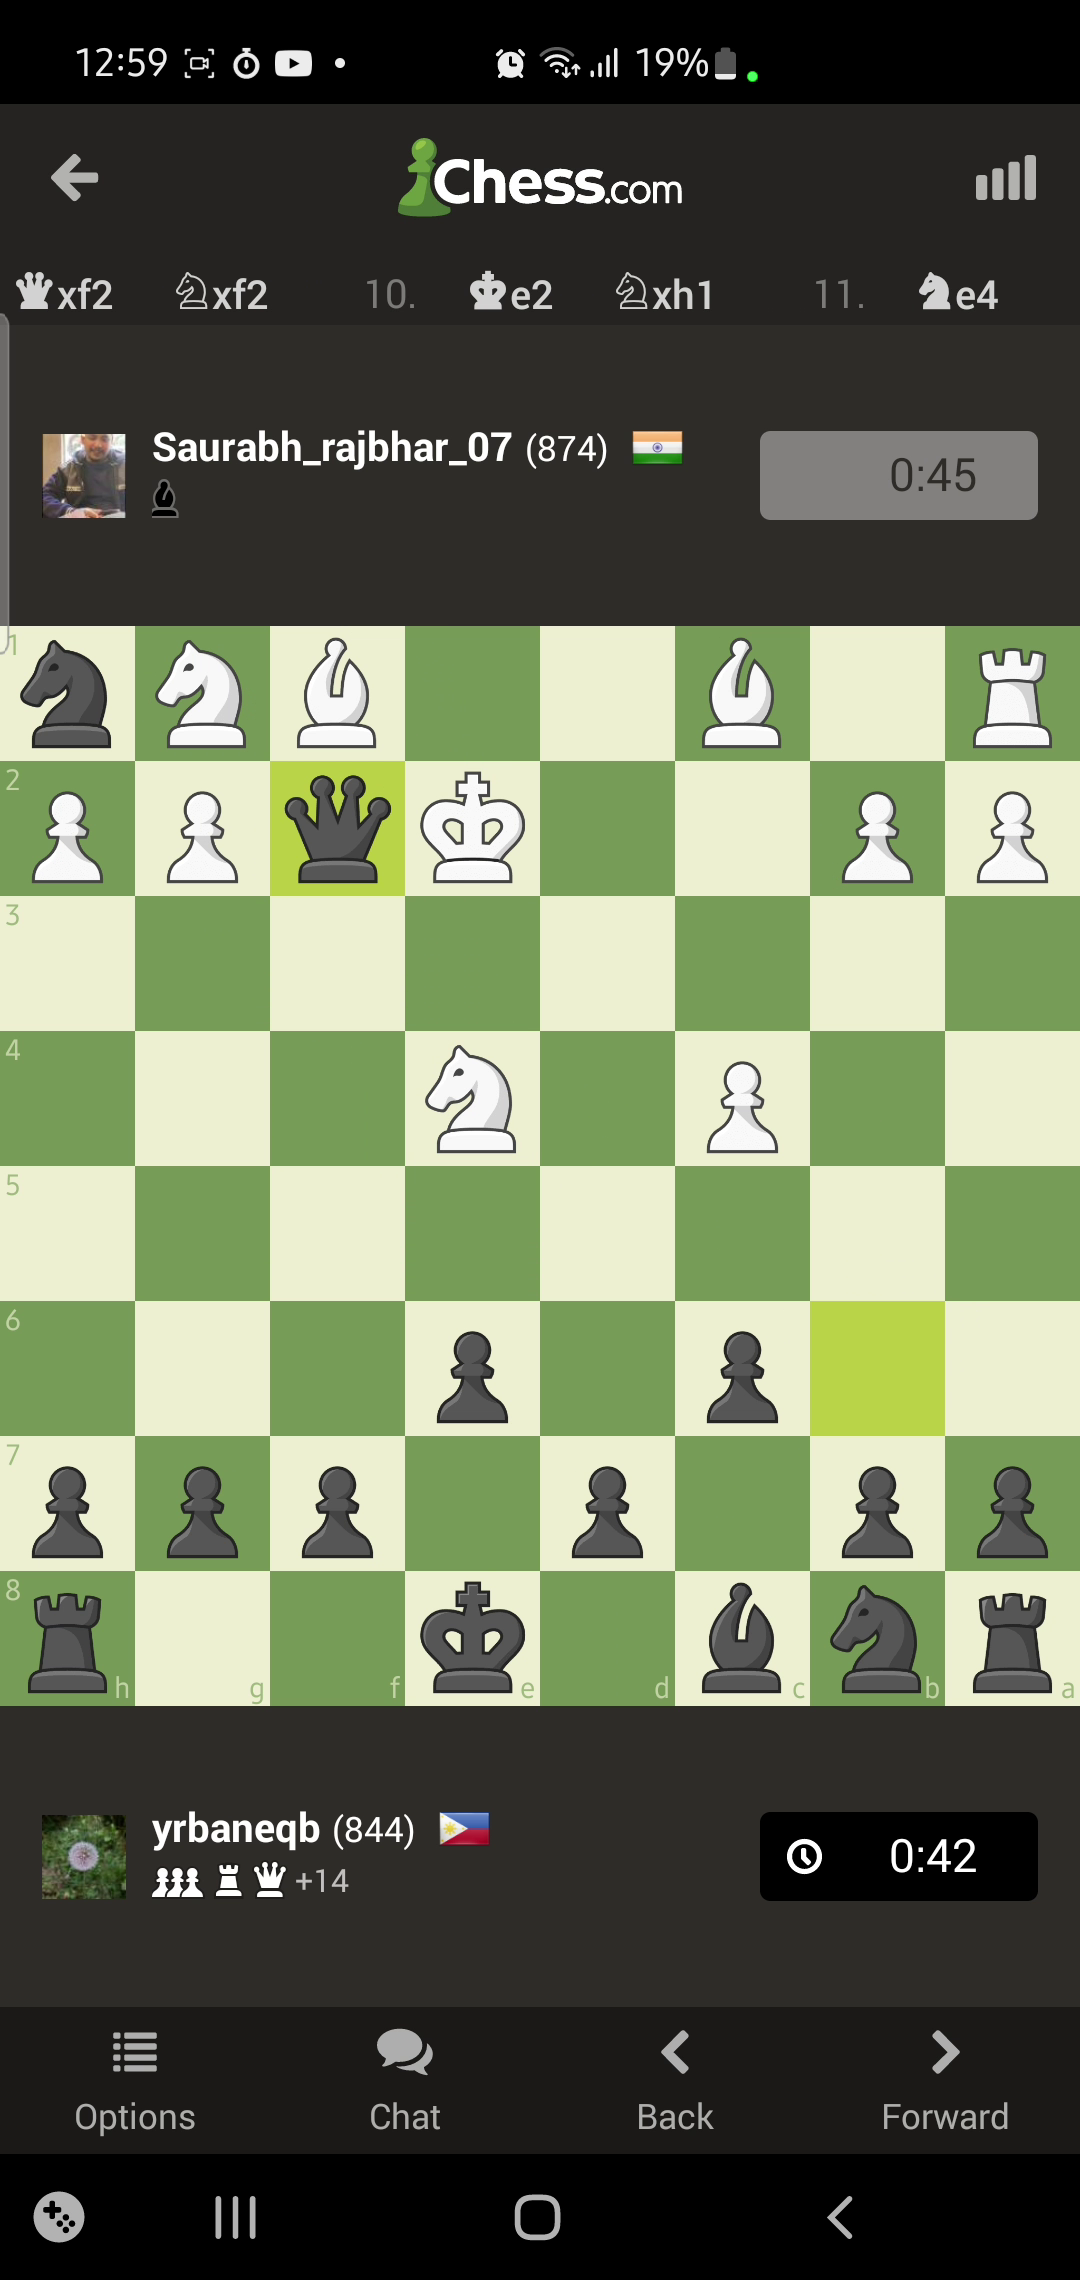king: (422, 1578, 523, 1697), (420, 769, 517, 883)
